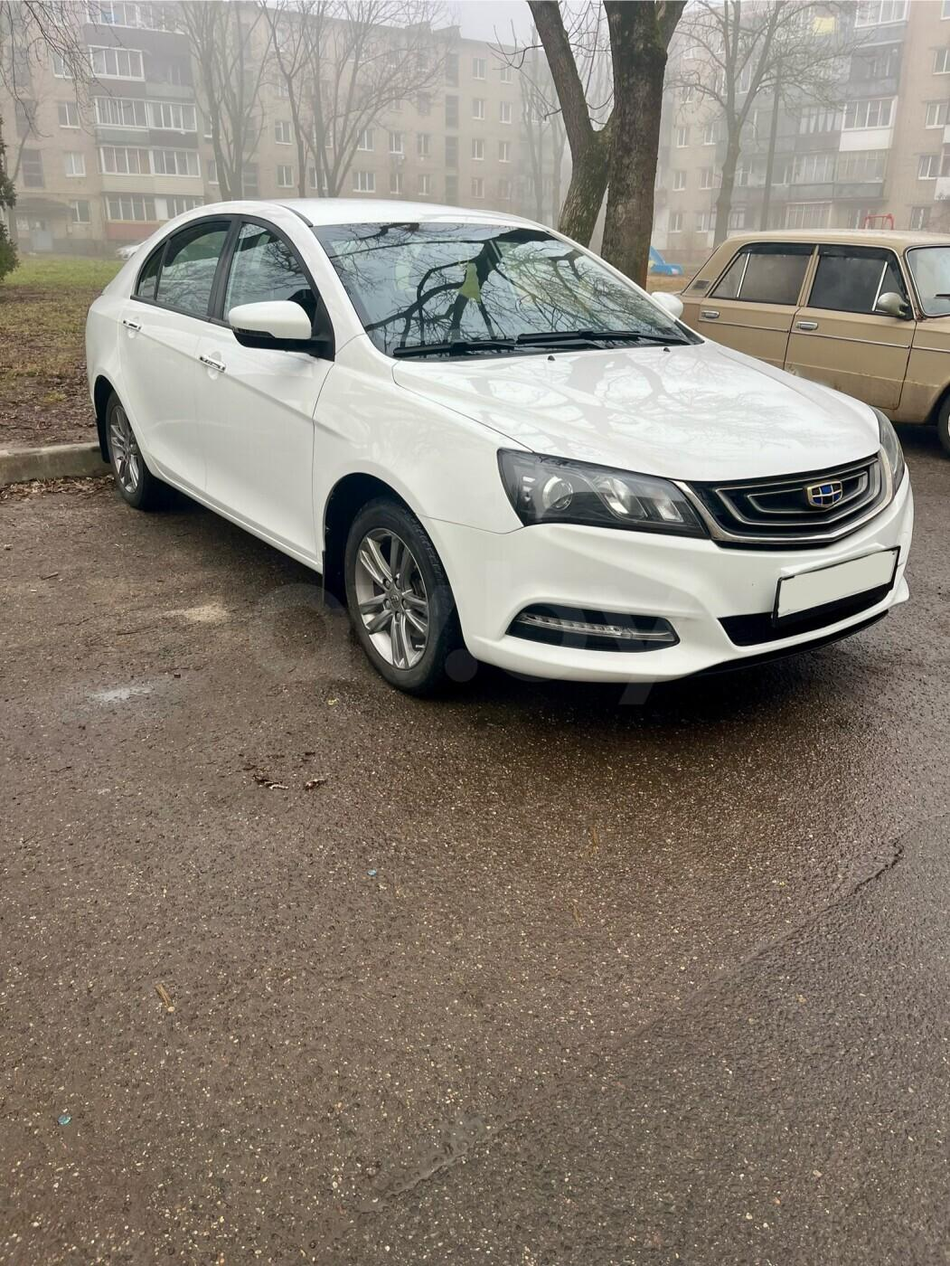Emgrand_2019-2021: (86, 199, 913, 695)
